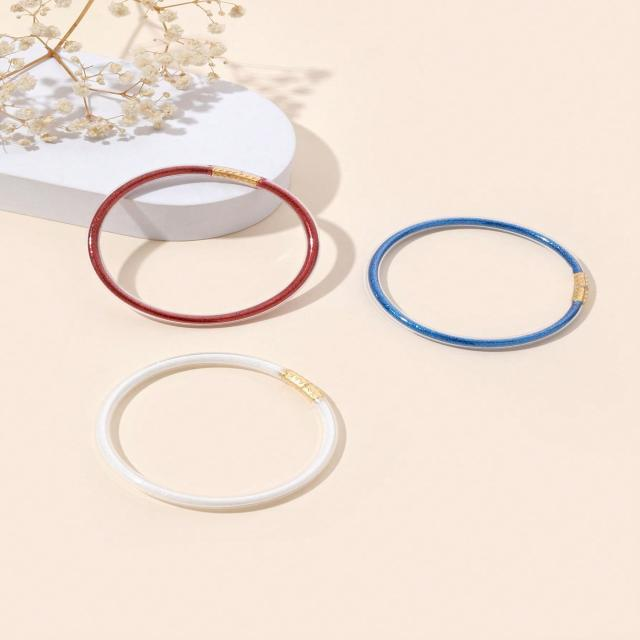bracelet: (17, 92, 640, 570)
